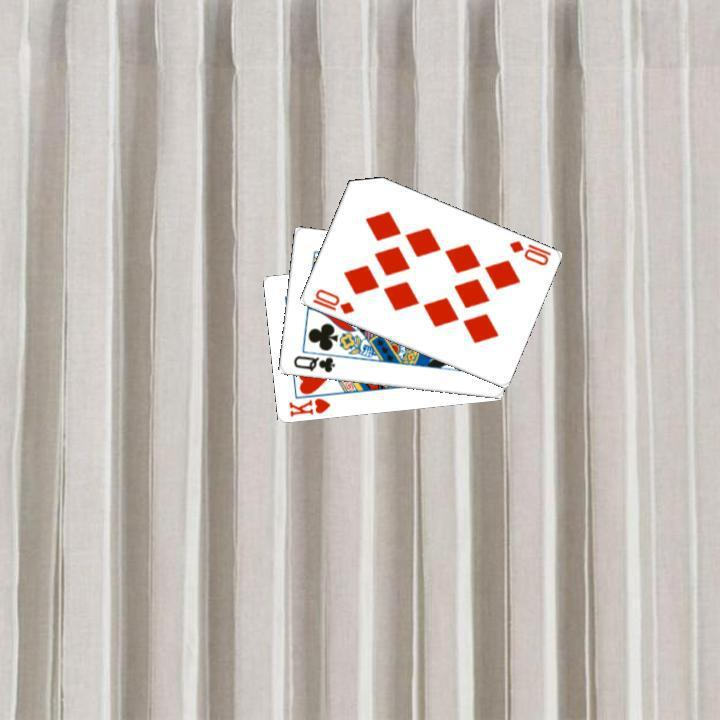10: (504, 236, 553, 268), (308, 285, 356, 316)
K: (284, 394, 332, 419)
Q: (289, 352, 337, 375)
